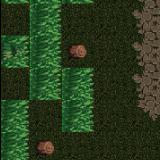Obstacle: (60, 34, 93, 68), (28, 132, 61, 160)
Slow: (29, 0, 61, 101), (61, 68, 93, 132), (0, 100, 29, 160), (0, 35, 30, 68)
